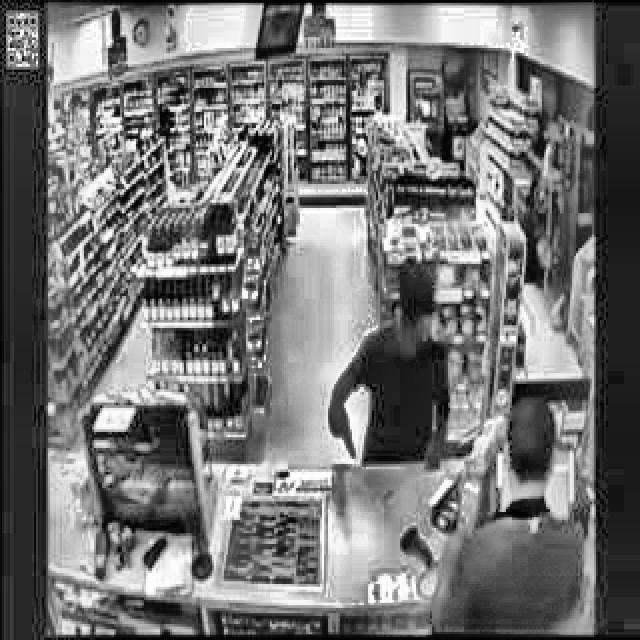robbery: (322, 254, 462, 473)
